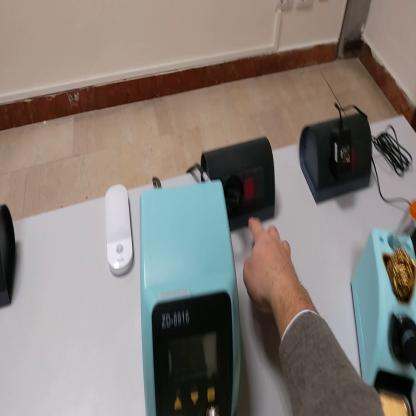hand: (242, 216, 296, 311)
socket: (202, 141, 278, 236), (302, 111, 373, 207)
welder base: (351, 227, 414, 413)
welder station: (141, 181, 242, 414)
